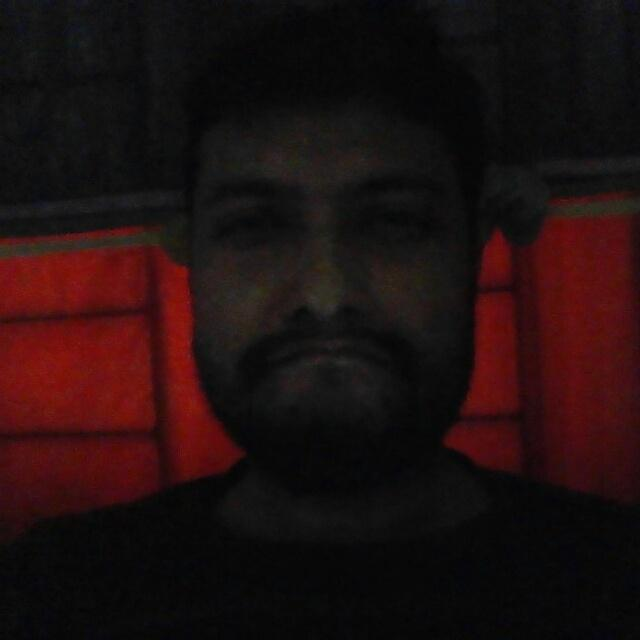Sad: (182, 79, 485, 555)
